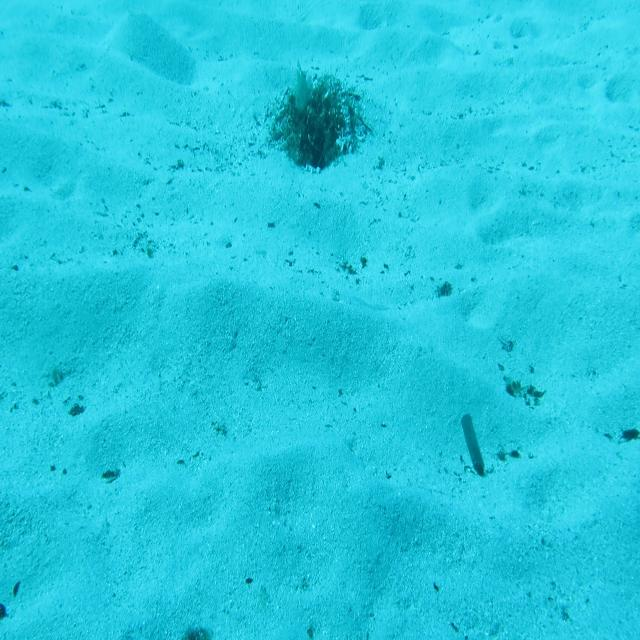NIP_IN: (293, 58, 312, 121)
nest: (265, 72, 366, 176)
vegetation: (462, 406, 486, 478), (502, 374, 546, 407), (436, 277, 457, 300), (617, 425, 640, 445)
